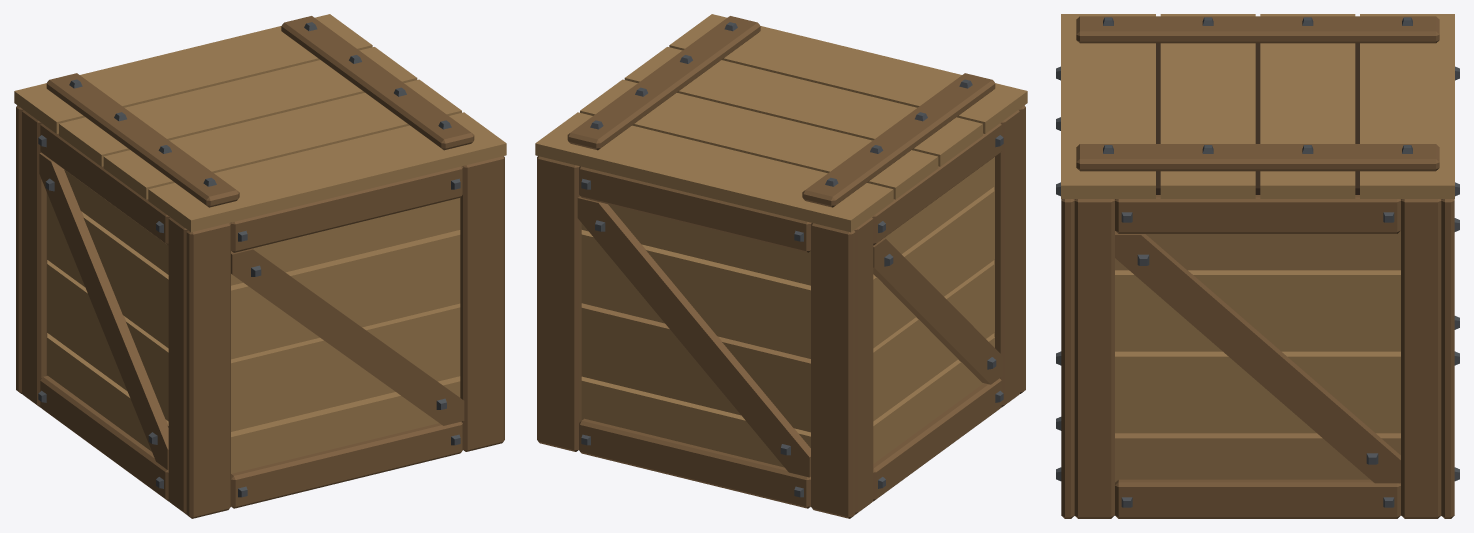
Rendered from SM_LPD_Crate_CrateMedium_01.fbx.
3 views of the same model, side by side, from view 1: azimuth 30°, elevation 25°; view 2: azimuth 150°, elevation 25°; view 3: azimuth 270°, elevation 25° (orthographic). The views are drawn at different scales.
Parts seen in each view (by area): view 1: SM_LPD_Crate_CrateMedium_01; view 2: SM_LPD_Crate_CrateMedium_01; view 3: SM_LPD_Crate_CrateMedium_01.
Part boxes in pixels (x1,y1,x2,y2): SM_LPD_Crate_CrateMedium_01: (14,14,506,518); SM_LPD_Crate_CrateMedium_01: (535,14,1027,518); SM_LPD_Crate_CrateMedium_01: (1056,14,1459,518).
Bounding box in the file's own units: 0.68 × 0.635 × 0.66.
